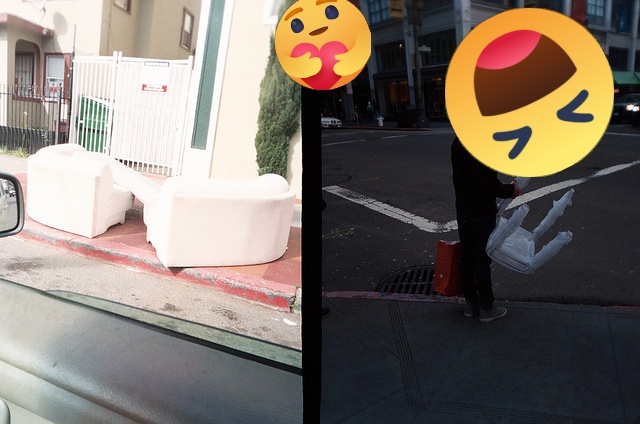care: (275, 0, 371, 90)
haha: (445, 8, 614, 177)
